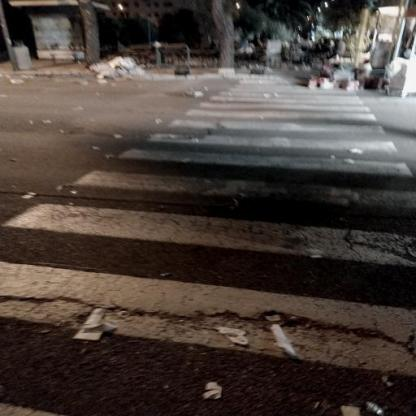crosswalk: (91, 128, 415, 182)
